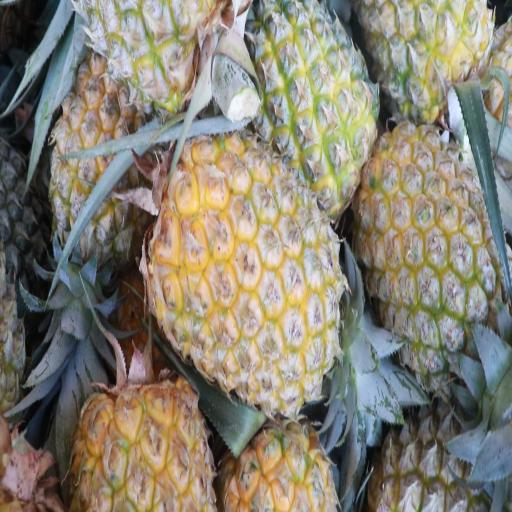------------------------------: (49, 64, 151, 276)
Pineapple - v8 v1: (152, 132, 343, 396), (357, 126, 502, 354), (241, 0, 368, 199), (364, 0, 497, 130)
